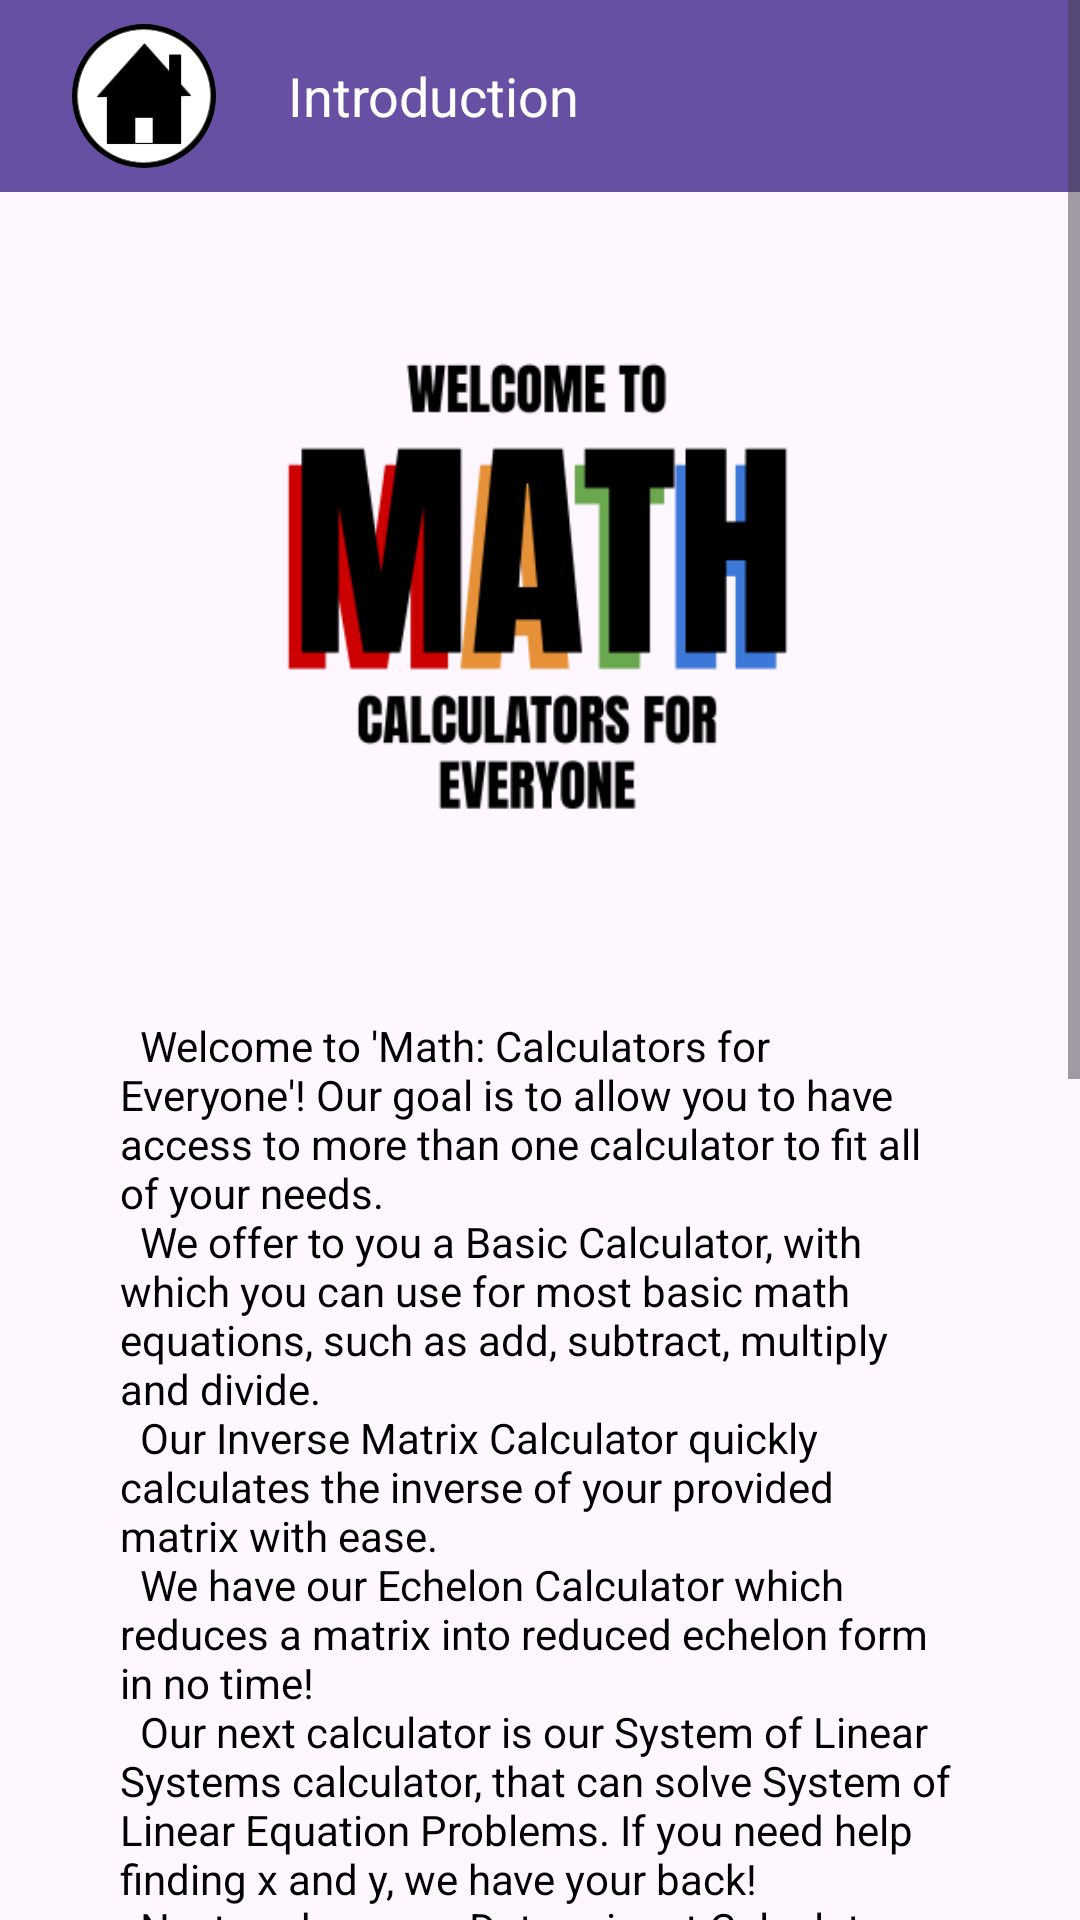

Where icons sit on this 1080px×1920px app screen, as (left=x1, top=y1, right=x2, bottom=y2):
Home: (left=72, top=24, right=216, bottom=168)
